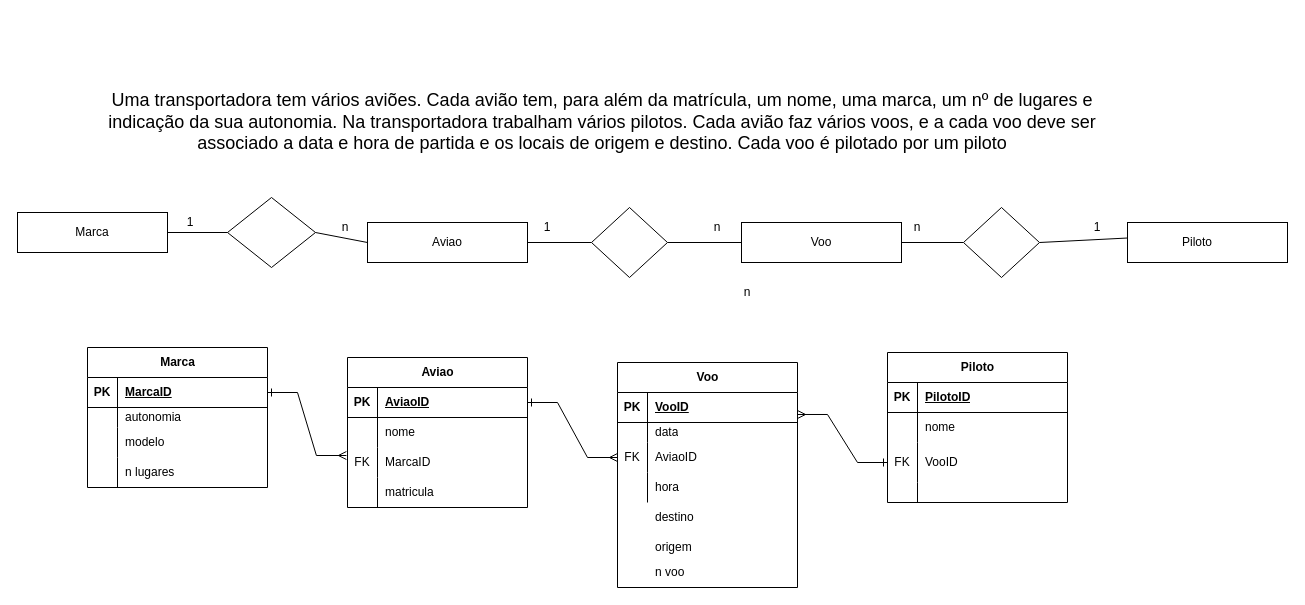
Image size: 1305x605. Some labels were removed from this diagram. The box of each missing label's shape, as (x1, y1, x2, y2) in pixels:
fazer: (590, 206, 668, 278)
pilotar: (962, 206, 1040, 278)
Tipo: (226, 196, 316, 268)
